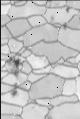good_void: (1, 52, 23, 76), (8, 81, 19, 98), (63, 6, 71, 14), (47, 14, 56, 21), (59, 22, 68, 29)
